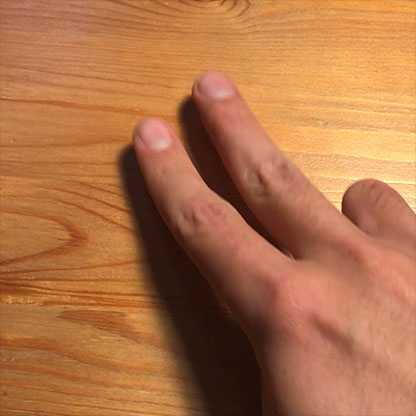fingertip: (188, 65, 248, 113), (129, 107, 181, 157)
